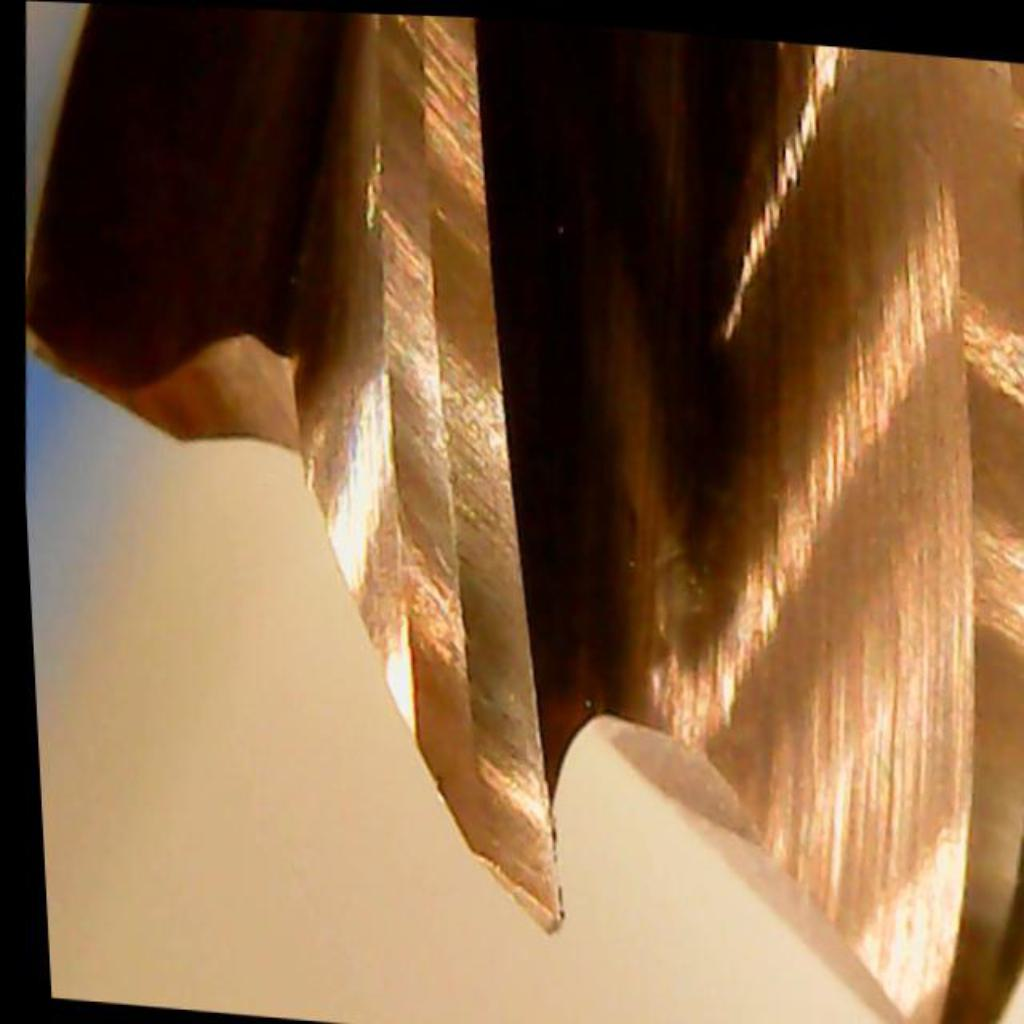Tool-wear-class-0: (337, 385, 606, 941)
